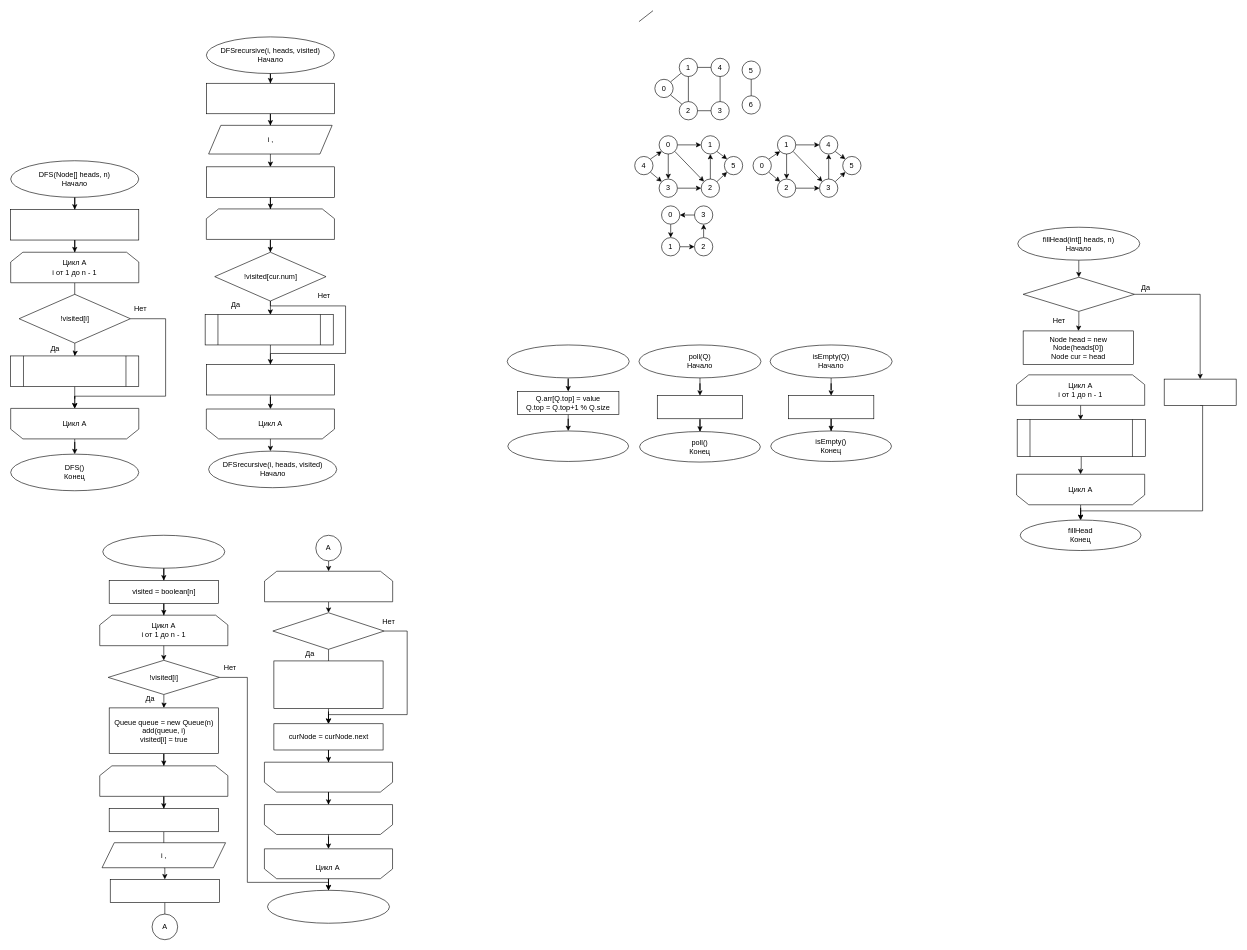
Some shapes in this 1247 by 950 pixel diagram are drawn without their labels. Here are the shapes that lost their labels. From the top down, the centre of each, then its label:
the point at 270,98: visited[i] = true
the point at 270,181: Node cur = heads[i]
the point at 74,224: visited = new boolean[n]
the point at 270,223: Цикл А cur != null
the point at 1078,294: n == 0
the point at 269,329: DFSrecursive(cur.num, heads, visited)
the point at 74,370: DFSrecursive(i, heads, visited)
the point at 270,379: cur = cur.next
the point at 568,361: add(Q, value) Начало
the point at 700,407: poll = Q.arr[Q.first] Q.first++
the point at 831,407: Q = Q.top == Q.first
the point at 1200,392: fillHead = null
the point at 568,445: add() Конец
the point at 1081,438: cur.next = new Node(heads[i]) Node cur = head
the point at 163,551: BFS(heads, n) Начало
the point at 328,586: Цикл В curNode != null
the point at 328,630: !visited[curNode.num]
the point at 328,684: visited[curNode.num] = true add(queue, curNode.num)
the point at 163,780: Цикл Б isEmpty(queue)
the point at 328,777: Цикл В
the point at 163,820: cur = poll(queue)
the point at 328,819: Цикл Б
the point at 164,890: Node curNode = heads[cur]
the point at 328,906: BFS() Конец
